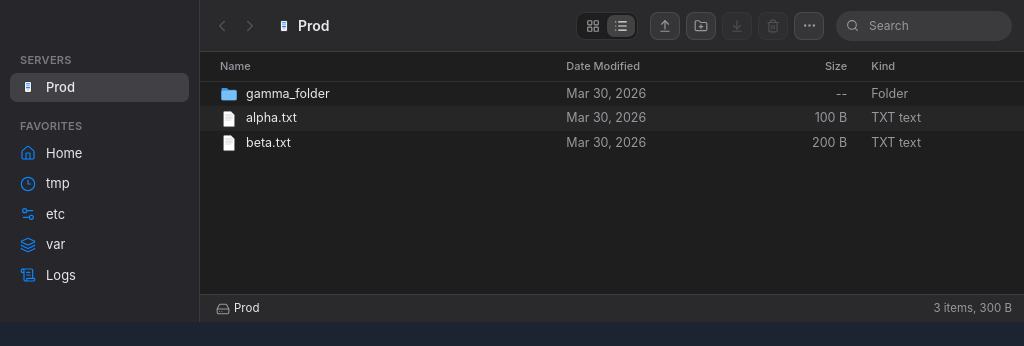
Test: FilesApp multi-select › selects all items via the toolbar more menu
The image size is (1024, 346).
Expected: the text "alpha.txt" is shown, [246, 109, 297, 128]
Click the button named "More actions": x=809, y=26 [794, 12, 824, 40]
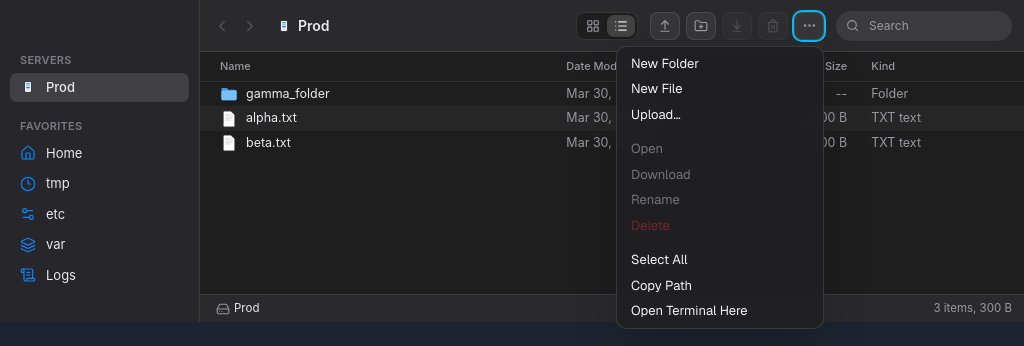
Click the menu item "Select All": x=720, y=260 [621, 247, 819, 272]
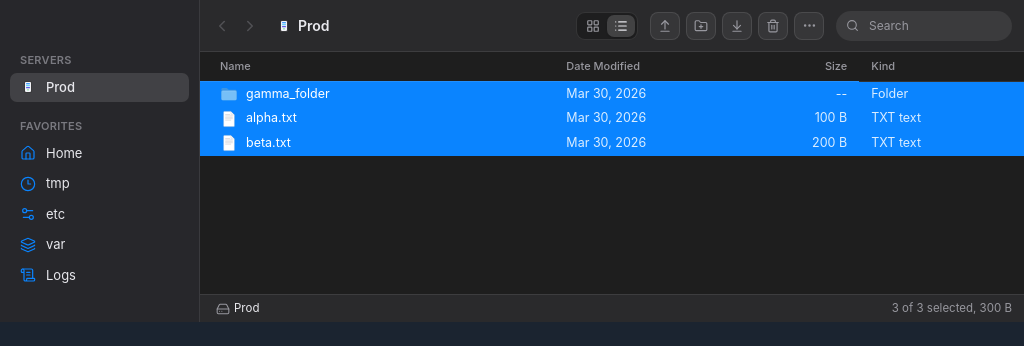
Now the text "3 of 3 selected, 300 B" is shown, box [892, 300, 1012, 317]
